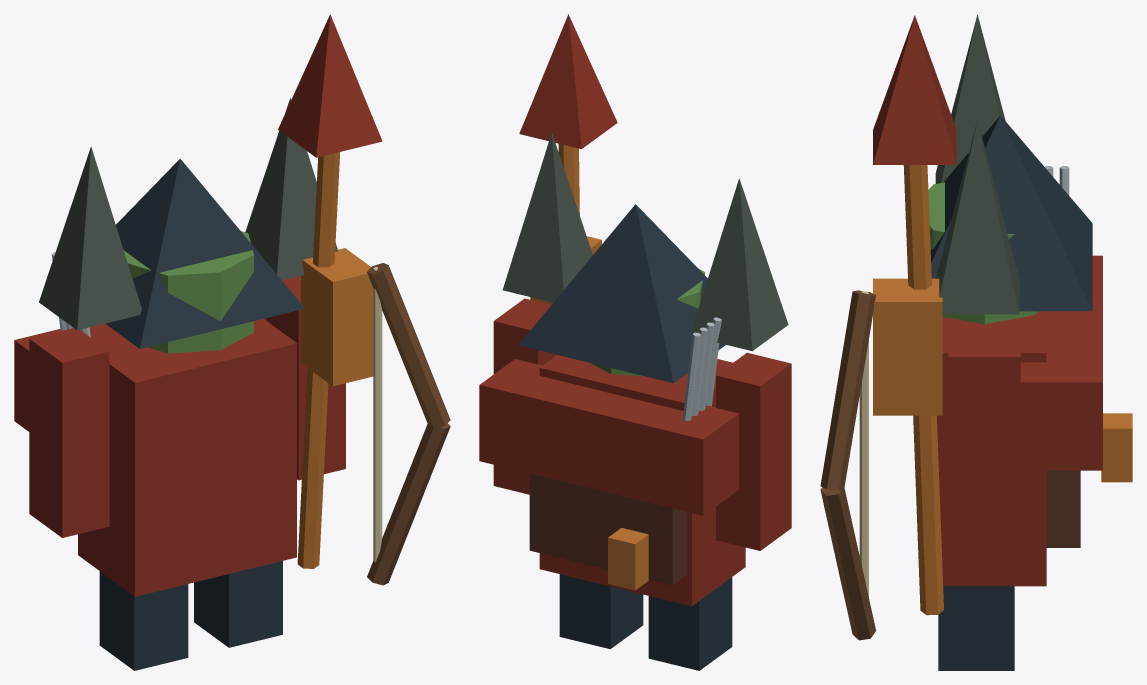
The model's file is scout.obj.
The picture shows the model from 3 angles, left to right: view 1: azimuth 30°, elevation 25°; view 2: azimuth 150°, elevation 25°; view 3: azimuth 270°, elevation 25°; orthographic projection. The views are drawn at different scales.
Parts seen in each view (by area): view 1: ranged; view 2: ranged; view 3: ranged.
Part boxes in pixels (x1,y1,x2,y2): ranged: [14, 14, 450, 670]; ranged: [479, 14, 791, 670]; ranged: [820, 14, 1132, 670].
Bounding box in the file's own units: 1.2 × 2.14 × 0.896.
